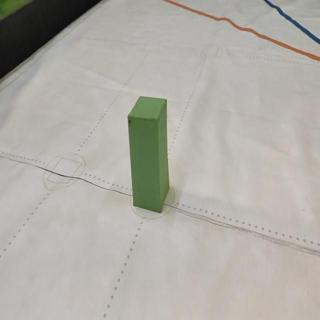greenbox: (127, 95, 168, 213)
